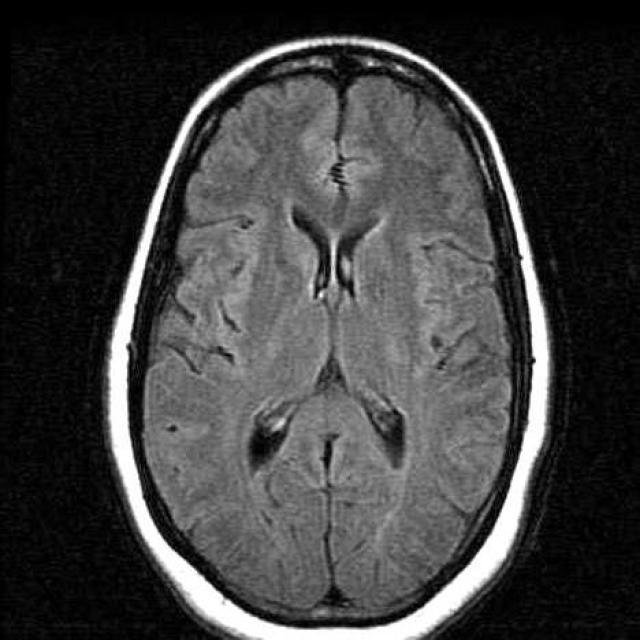notumor: (107, 37, 548, 639)
